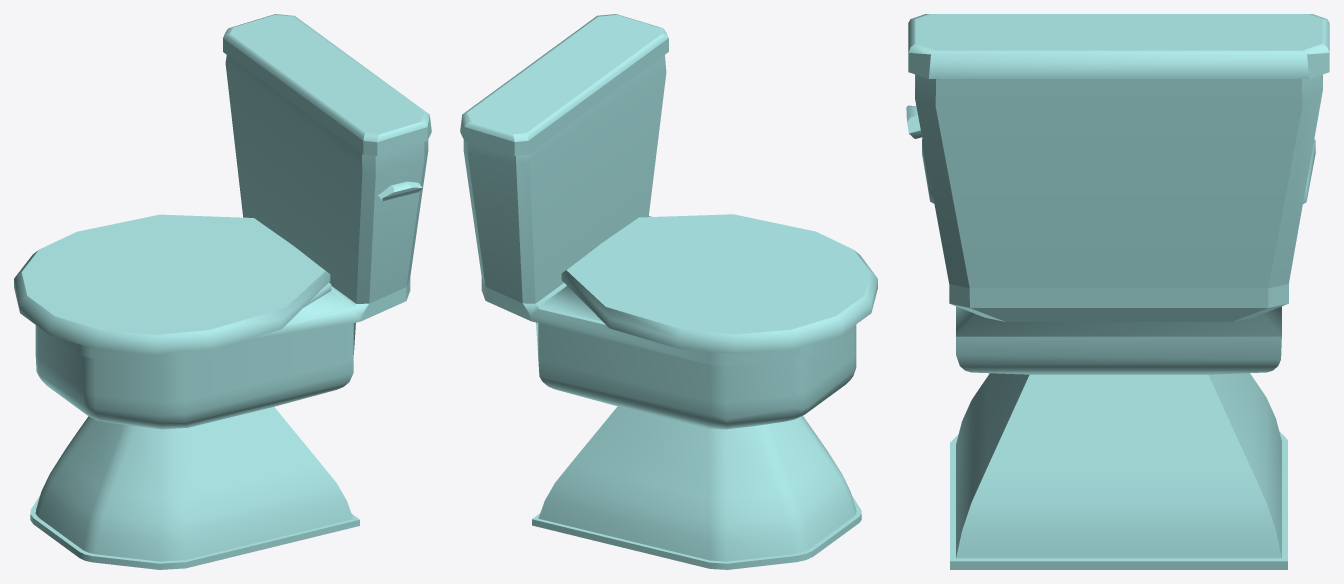
File: Toilet.fbx
3 views of the same model, side by side, from view 1: azimuth 30°, elevation 25°; view 2: azimuth 150°, elevation 25°; view 3: azimuth 270°, elevation 25° (orthographic). The views are drawn at different scales.
Visible parts, largest first — view 1: toilette; view 2: toilette; view 3: toilette.
Part boxes in pixels (x1,y1,x2,y2): toilette: [14, 14, 431, 569]; toilette: [460, 14, 877, 569]; toilette: [906, 14, 1329, 569].
Size of the model in its own units: 92.73 by 74.23 by 108.
